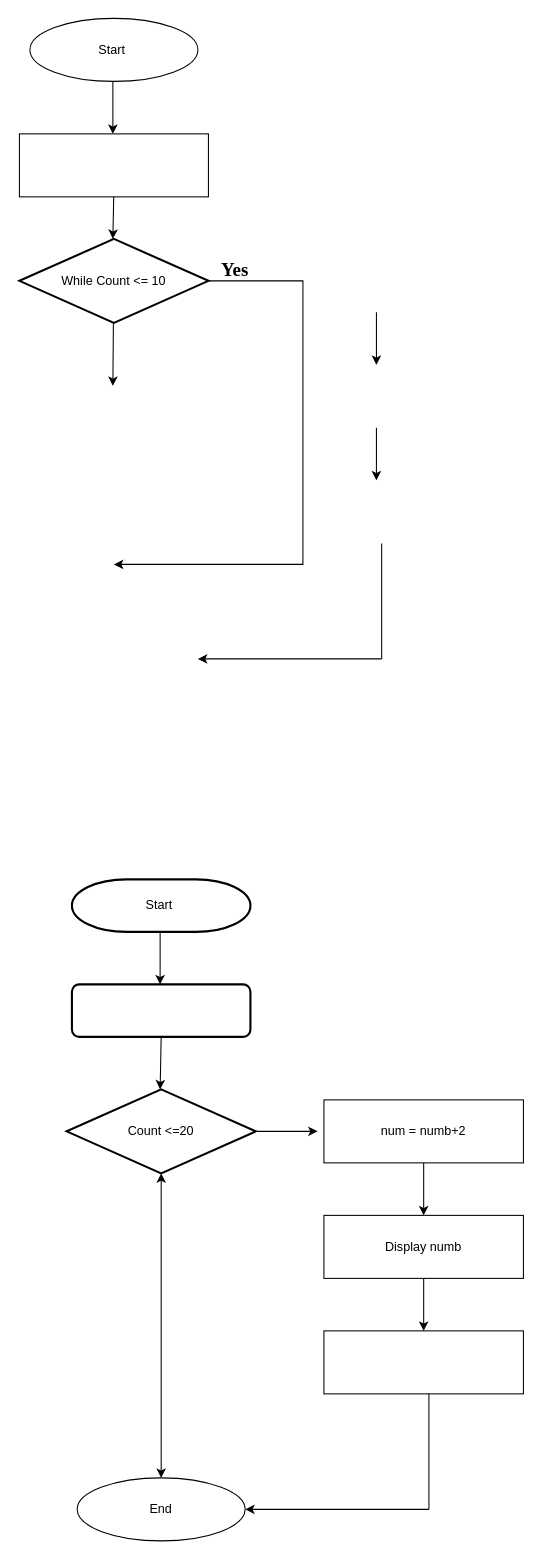
The diagram is 542 pixels wide and 1559 high, and some of its shapes have lost their labels. Each missing label, with the centre of its shape:
"count = count+1" goes at (423,1362).
"Initialize count = 1 Initialize num = 0" goes at (160,1010).
"Initialize count =1" goes at (113,165).
